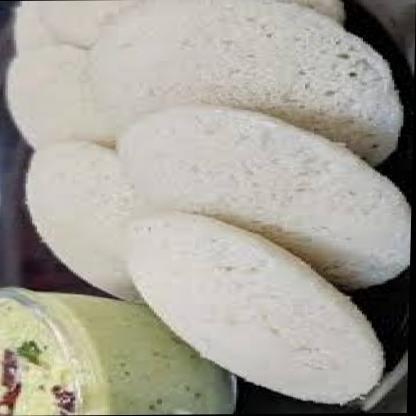idli: (114, 104, 414, 291), (84, 0, 405, 167), (125, 209, 389, 405), (25, 138, 151, 303), (22, 0, 345, 48), (4, 44, 133, 150)
